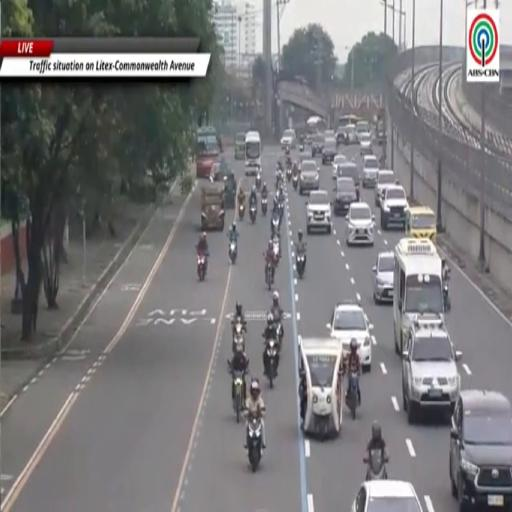bus: (393, 238, 444, 354), (196, 126, 220, 178), (245, 132, 261, 175), (306, 116, 327, 142), (337, 115, 360, 129)
car: (450, 390, 511, 511), (402, 314, 461, 424), (327, 302, 372, 372), (351, 479, 422, 511), (346, 202, 374, 246), (381, 185, 408, 229), (306, 190, 332, 233), (373, 251, 394, 303), (334, 178, 358, 215), (375, 170, 398, 206), (299, 159, 319, 195), (337, 162, 360, 188), (363, 155, 378, 187), (322, 137, 336, 165), (339, 125, 357, 145), (333, 154, 347, 179), (355, 121, 371, 141), (281, 129, 296, 149), (358, 134, 372, 155), (312, 134, 324, 157), (235, 133, 245, 159), (209, 163, 220, 181), (324, 130, 335, 138)
motorcycle: (246, 419, 262, 472), (364, 450, 388, 481), (265, 340, 278, 388), (346, 373, 359, 419), (233, 372, 244, 423), (233, 323, 245, 353), (443, 267, 450, 311), (197, 253, 206, 281), (265, 262, 274, 290), (443, 280, 450, 311), (275, 320, 282, 350), (297, 253, 305, 279), (273, 237, 280, 266), (229, 240, 237, 264), (271, 216, 279, 235), (250, 203, 256, 223), (292, 174, 299, 191), (255, 170, 261, 189), (276, 171, 282, 189), (239, 203, 245, 220), (262, 198, 267, 216), (286, 168, 291, 182), (299, 143, 304, 152), (285, 146, 290, 154)
truck: (405, 199, 437, 241), (201, 183, 224, 231), (376, 109, 386, 146)
